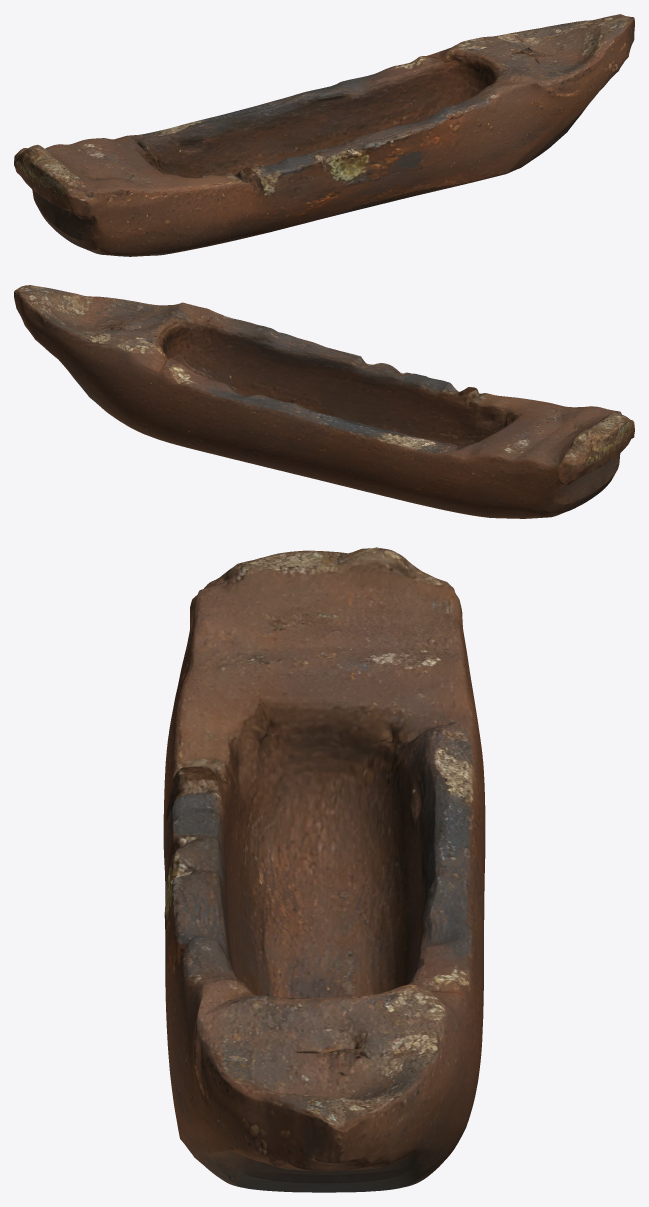
The picture shows the model from 3 angles, top to bottom: view 1: azimuth 30°, elevation 25°; view 2: azimuth 150°, elevation 25°; view 3: azimuth 270°, elevation 25°; orthographic projection. The views are drawn at different scales.
Visible parts, largest first — view 1: node_0; view 2: node_0; view 3: node_0.
Boxes of the visible parts, <box> form: node_0: <box>14,14,634,256</box>; node_0: <box>14,285,634,518</box>; node_0: <box>163,547,485,1192</box>.
Bounding box in the file's own units: 1.19 × 0.1933 × 0.2788.
Materials: 1 (1 with a texture image).
